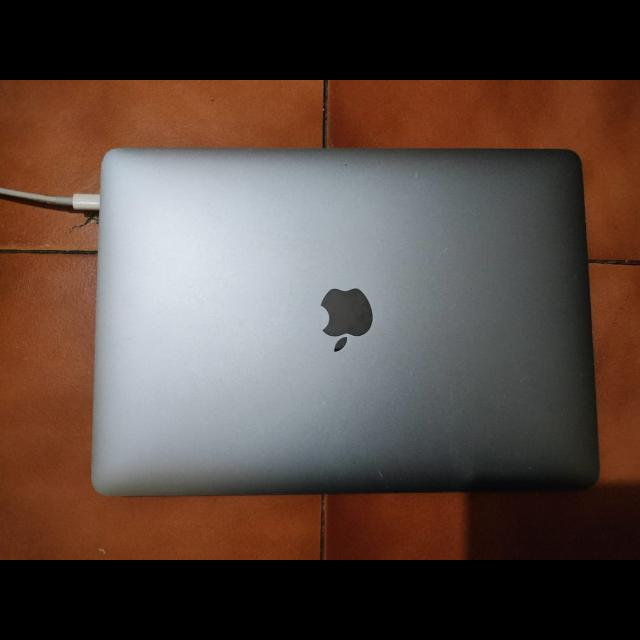laptop: (89, 134, 633, 524)
